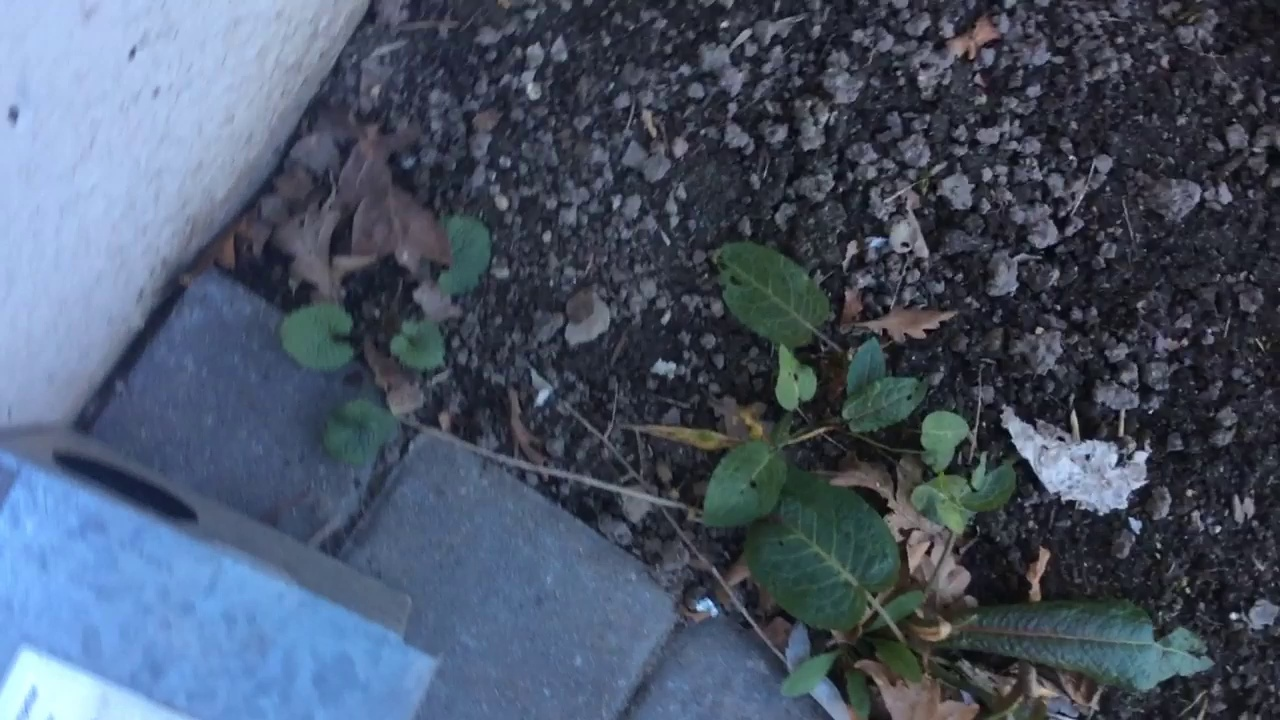rumex: (671, 226, 1228, 705)
